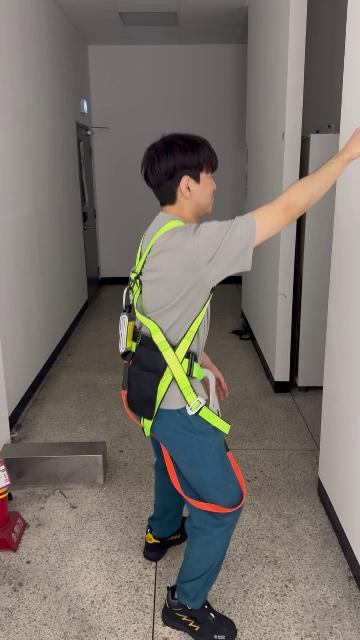helmet_not_worn: (142, 128, 220, 214)
shoe_worn: (162, 584, 236, 639), (143, 517, 188, 561)
vest_worn: (115, 225, 244, 507)
